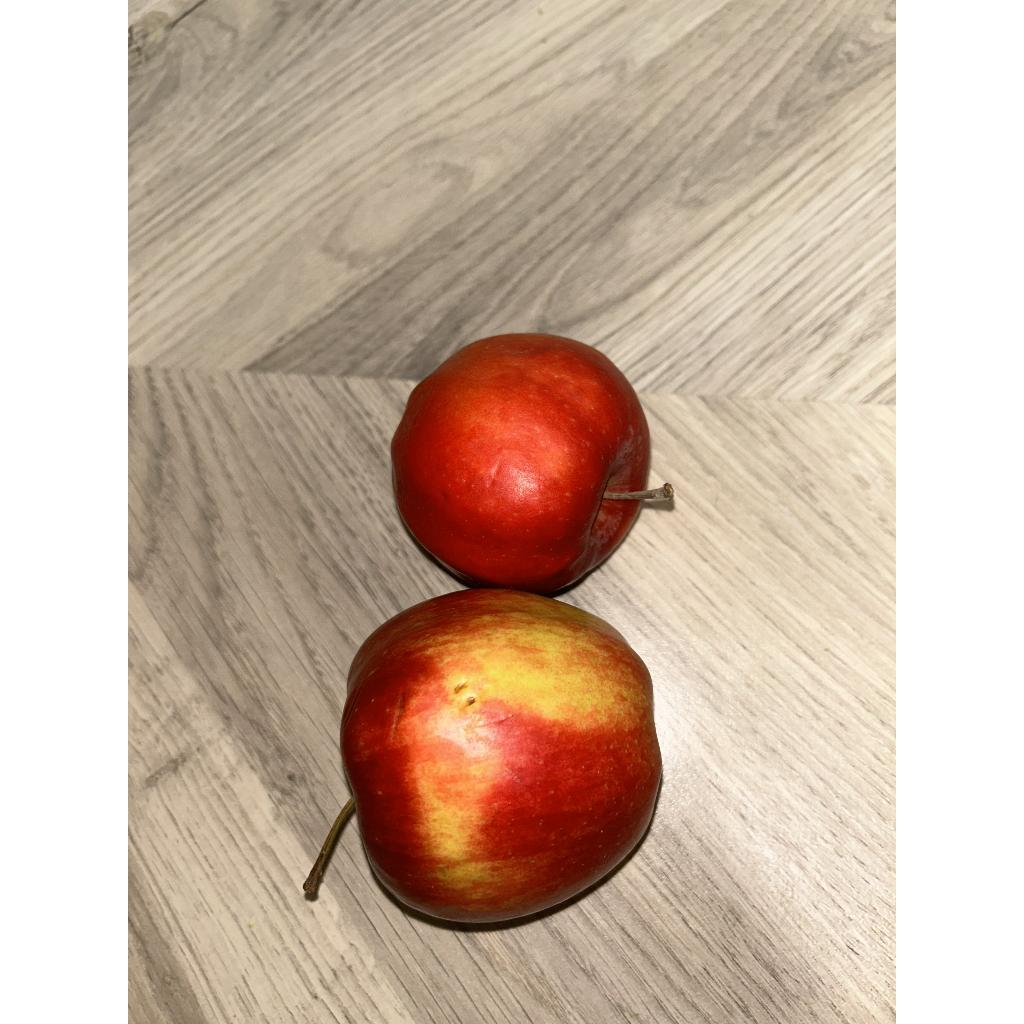apple: (342, 590, 662, 922), (392, 334, 672, 592)
